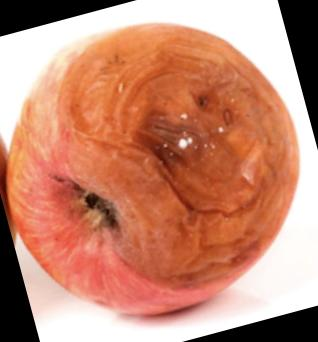Apple: (8, 23, 298, 320)
